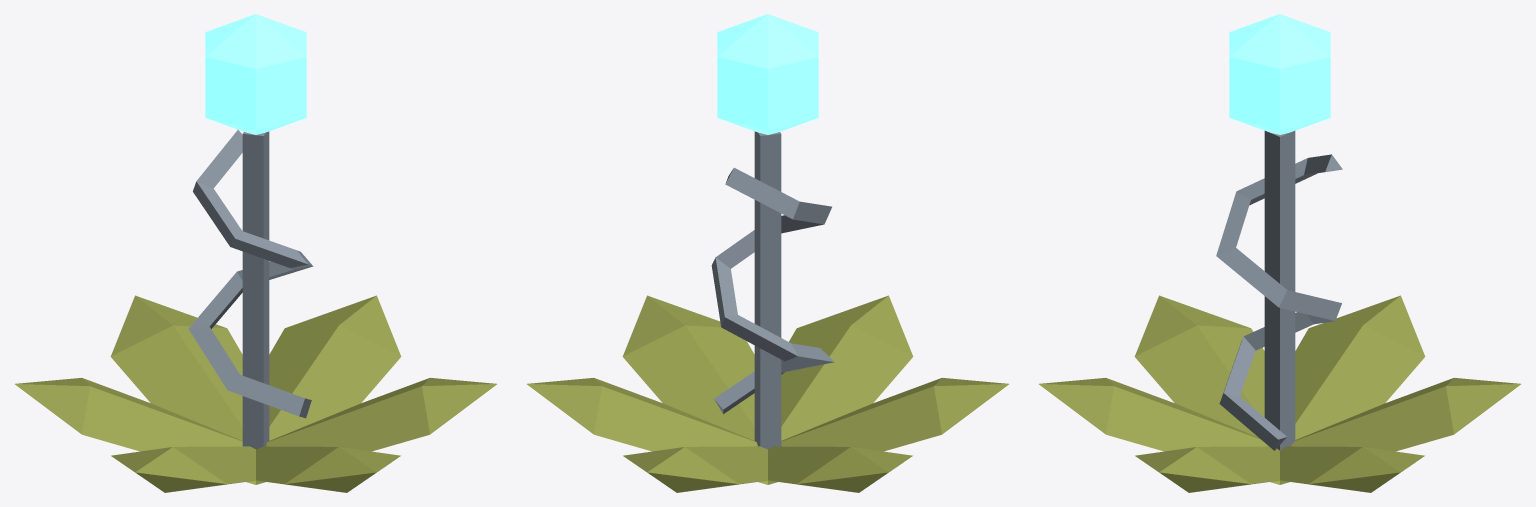
Rendered from Veg_ZapBloom_A.fbx.
3 renders of one model, left to right at view 1: azimuth 30°, elevation 25°; view 2: azimuth 150°, elevation 25°; view 3: azimuth 270°, elevation 25°, orthographic.
Visible parts, largest first — view 1: Veg_ZapBloom_A_Body, Veg_ZapBloom_A_Orb; view 2: Veg_ZapBloom_A_Body, Veg_ZapBloom_A_Orb; view 3: Veg_ZapBloom_A_Body, Veg_ZapBloom_A_Orb.
Part boxes in pixels (x1,y1,x2,y2): Veg_ZapBloom_A_Body: (15,130,496,492); Veg_ZapBloom_A_Orb: (205,14,306,134); Veg_ZapBloom_A_Body: (527,131,1008,492); Veg_ZapBloom_A_Orb: (717,14,818,134); Veg_ZapBloom_A_Body: (1039,131,1520,492); Veg_ZapBloom_A_Orb: (1229,14,1330,134).
Size of the model in its own units: 0.6836 by 0.8371 by 0.7893.
